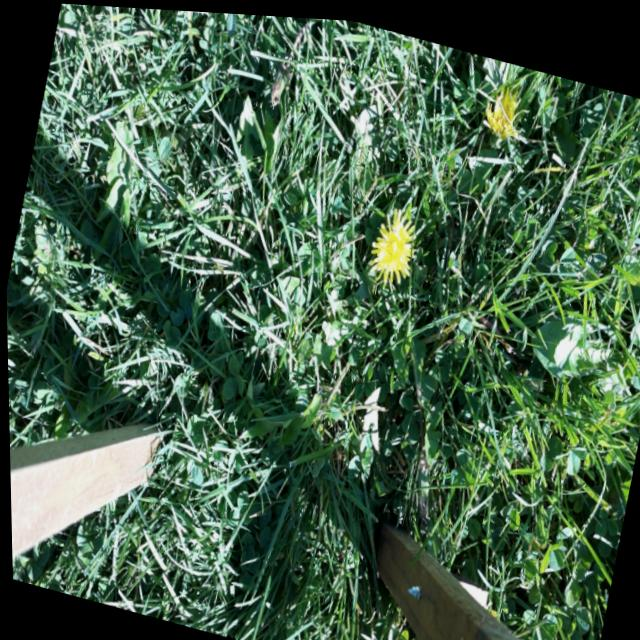flower: (364, 198, 419, 287), (476, 75, 524, 146)
